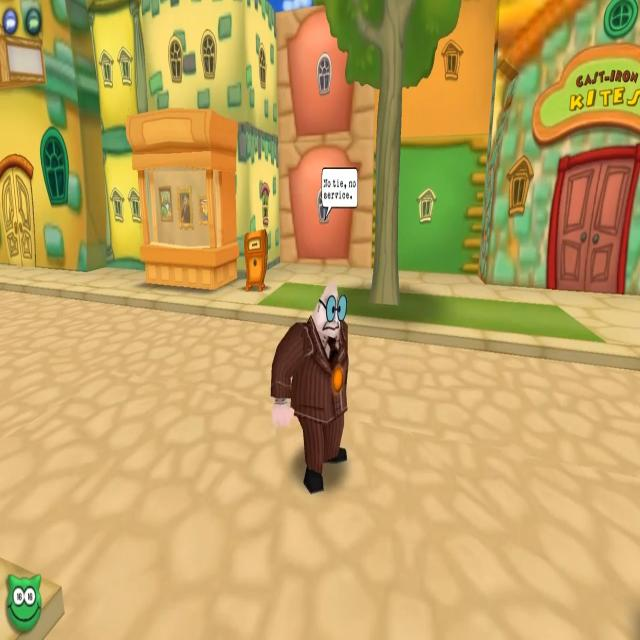flunky: (264, 166, 358, 502)
